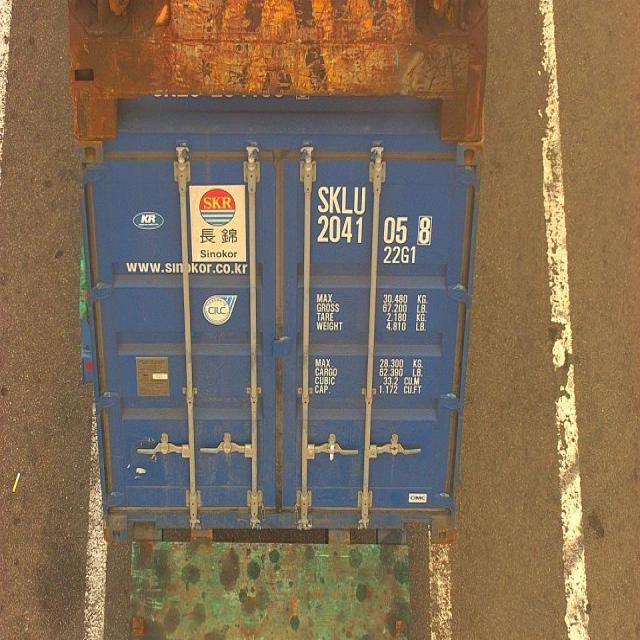ISO: (382, 244, 416, 266)
container_number: (322, 188, 435, 242)
